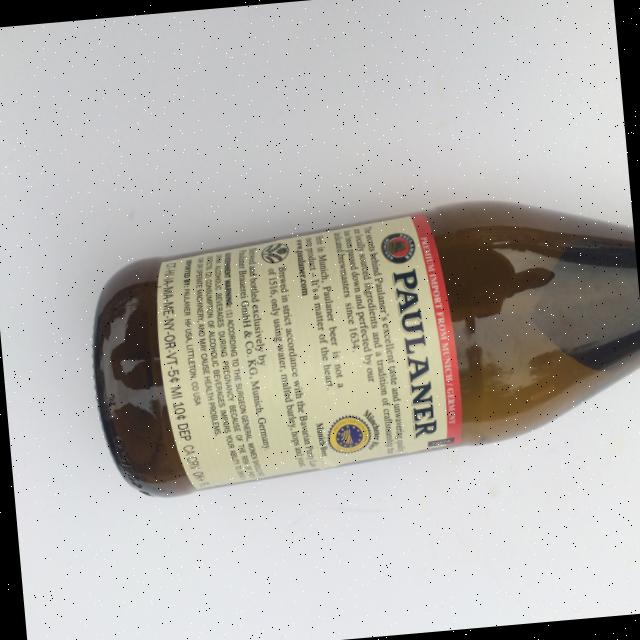glass: (80, 185, 640, 502)
